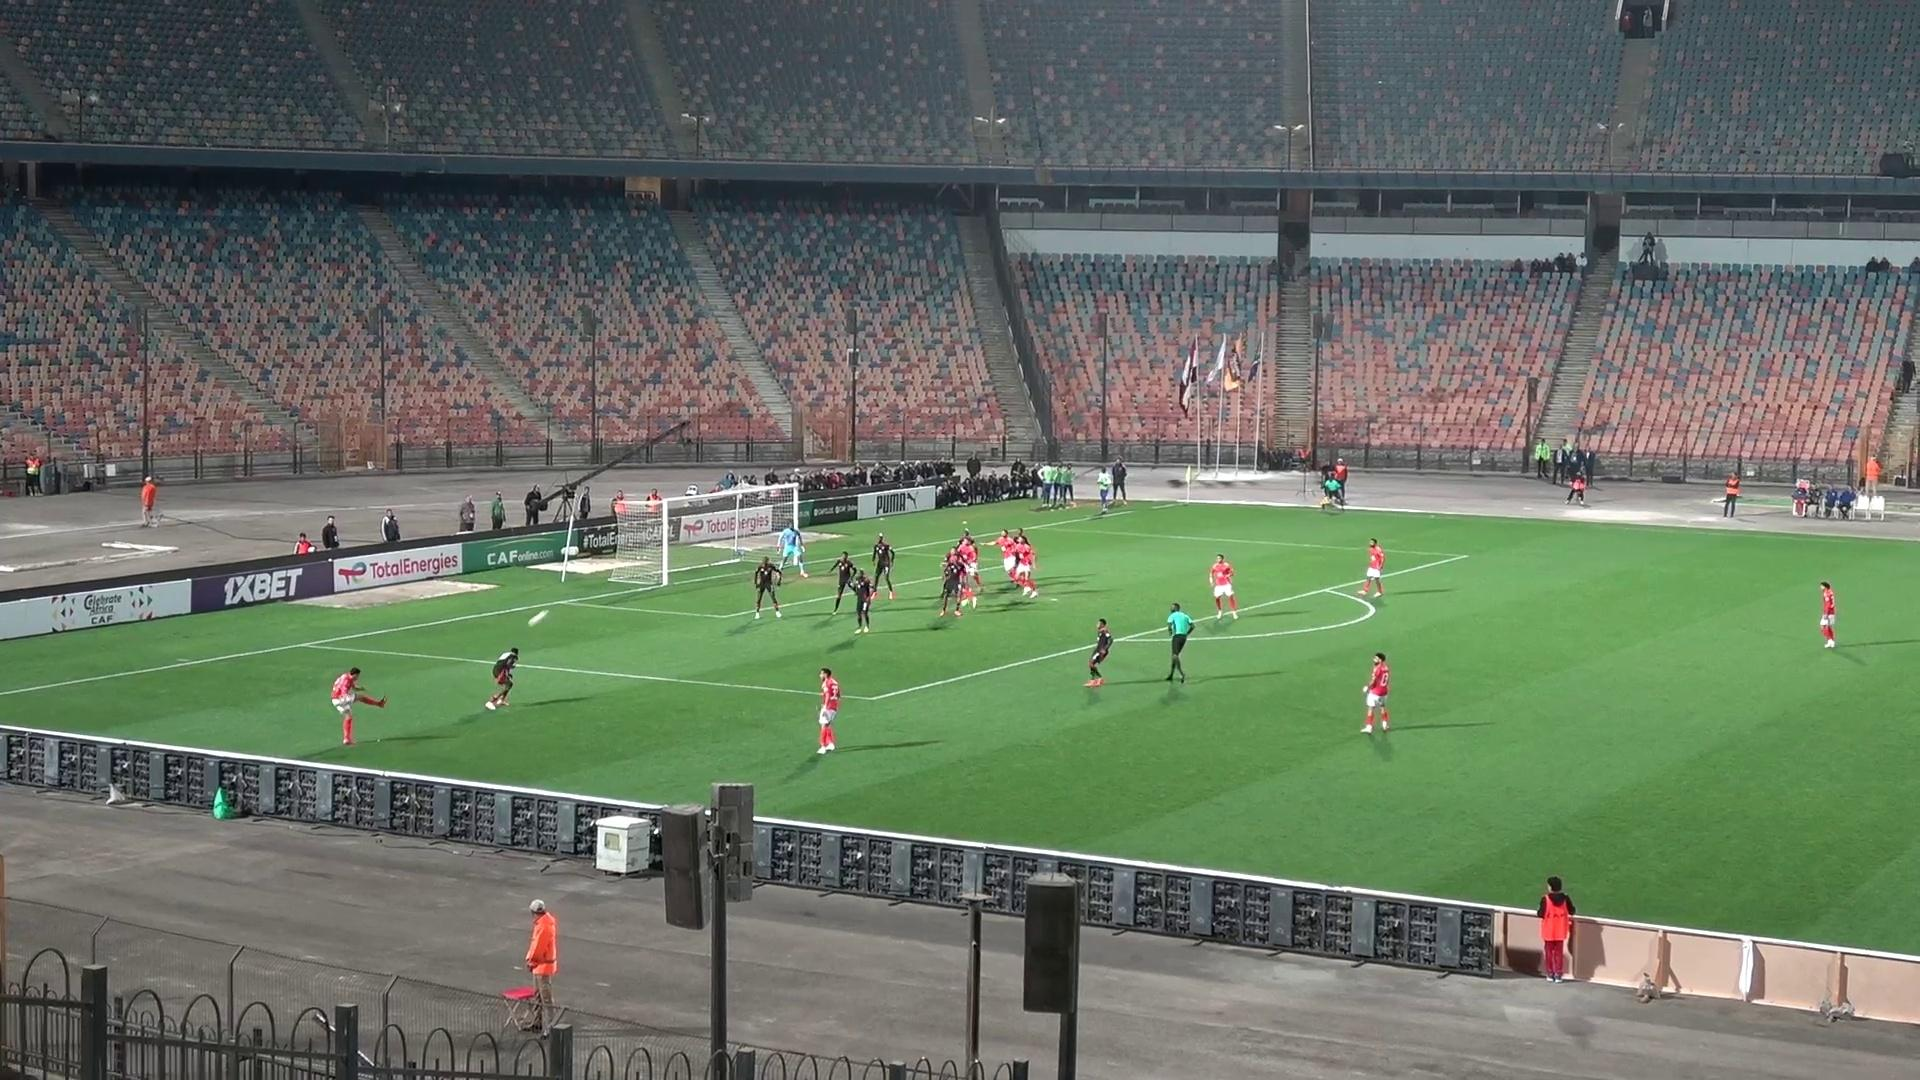Ball: (527, 609, 550, 626)
GK2: (777, 522, 806, 578)
Refree: (1166, 603, 1195, 680), (1317, 472, 1346, 510)
Team1: (331, 667, 386, 745), (1361, 653, 1390, 733), (816, 667, 843, 756), (1208, 554, 1240, 618), (1010, 529, 1038, 597), (957, 534, 982, 596), (1358, 539, 1385, 597), (988, 531, 1015, 585), (1818, 580, 1837, 647)
Team2: (484, 647, 518, 709), (939, 550, 969, 615), (829, 551, 860, 615), (1084, 618, 1113, 684), (752, 558, 783, 617), (872, 531, 895, 597), (851, 570, 874, 633), (955, 524, 975, 543), (1011, 529, 1031, 545)
